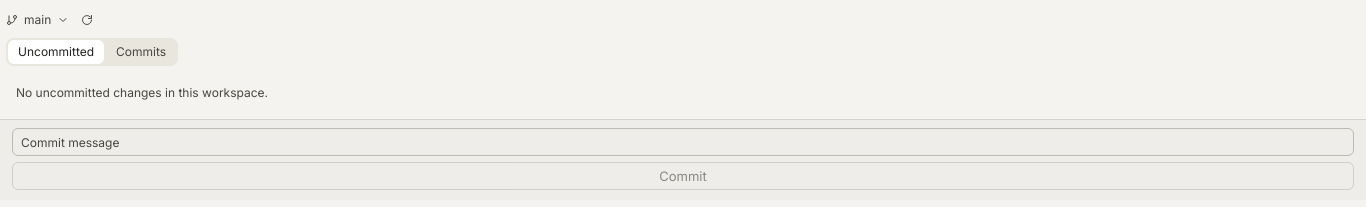
Scenario: ChangesSurface › renders the Commits view from the bridge answer
What coordinates should you click on to do the following:
click the button "Commits"
I would click on:
 (141, 52)
Its box is [106,40,176,64].
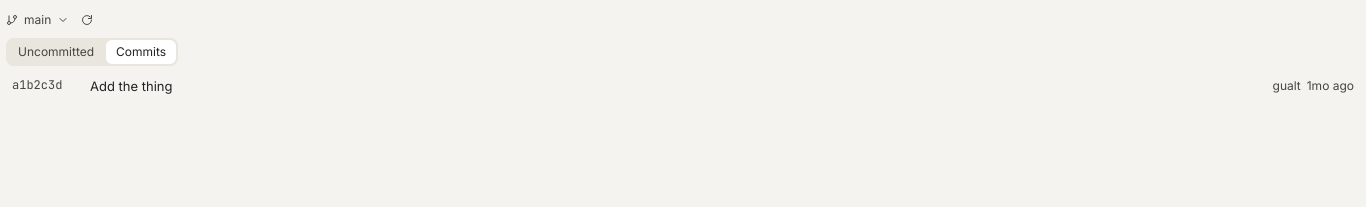
Expected: the element with class "workspace-commits-row" is shown, [6,74,1360,98]
Expected: the text "a1b2c3d" is shown, [12,77,62,93]
Expected: the text "Add the thing" is shown, [90,78,172,94]
